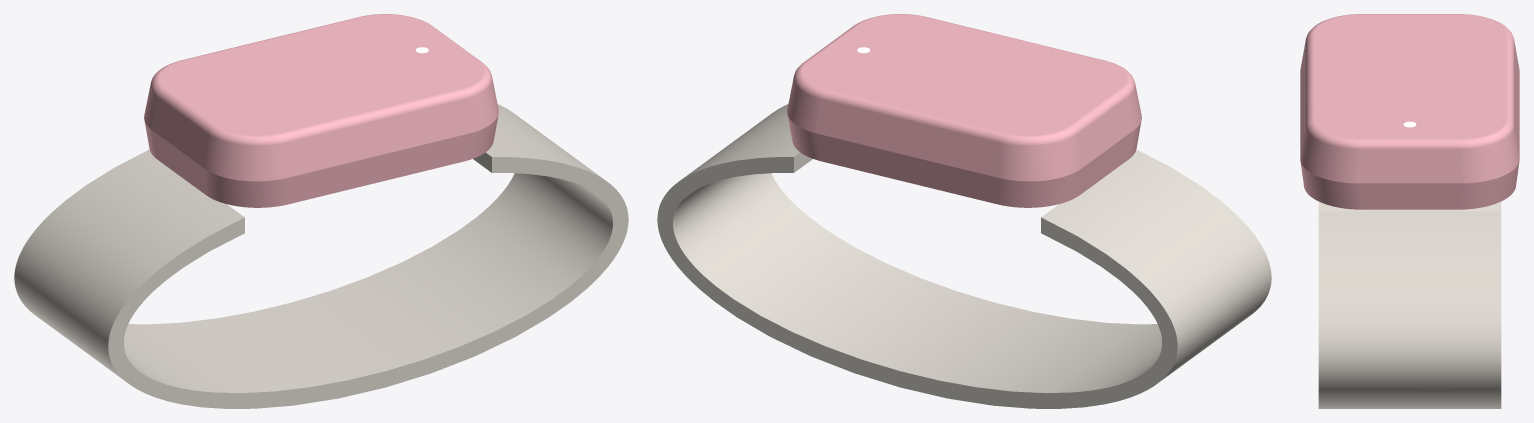
3 renders of one model, left to right at view 1: azimuth 30°, elevation 25°; view 2: azimuth 150°, elevation 25°; view 3: azimuth 270°, elevation 25°, orthographic. The views are drawn at different scales.
Visible parts, largest first — view 1: fabric.1, body.2, body.1; view 2: fabric.1, body.2, body.1; view 3: fabric.1, body.2, body.1.
Boxes of the visible parts, x1,y1,x2,y2 form: fabric.1: (14, 104, 628, 408); body.2: (144, 14, 498, 181); body.1: (144, 114, 498, 207); fabric.1: (657, 104, 1271, 408); body.2: (787, 14, 1141, 181); body.1: (787, 114, 1141, 207); fabric.1: (1318, 201, 1501, 408); body.2: (1300, 14, 1519, 183); body.1: (1300, 162, 1519, 209).
Bounding box in the file's own units: 0.08 × 0.0416 × 0.03.
